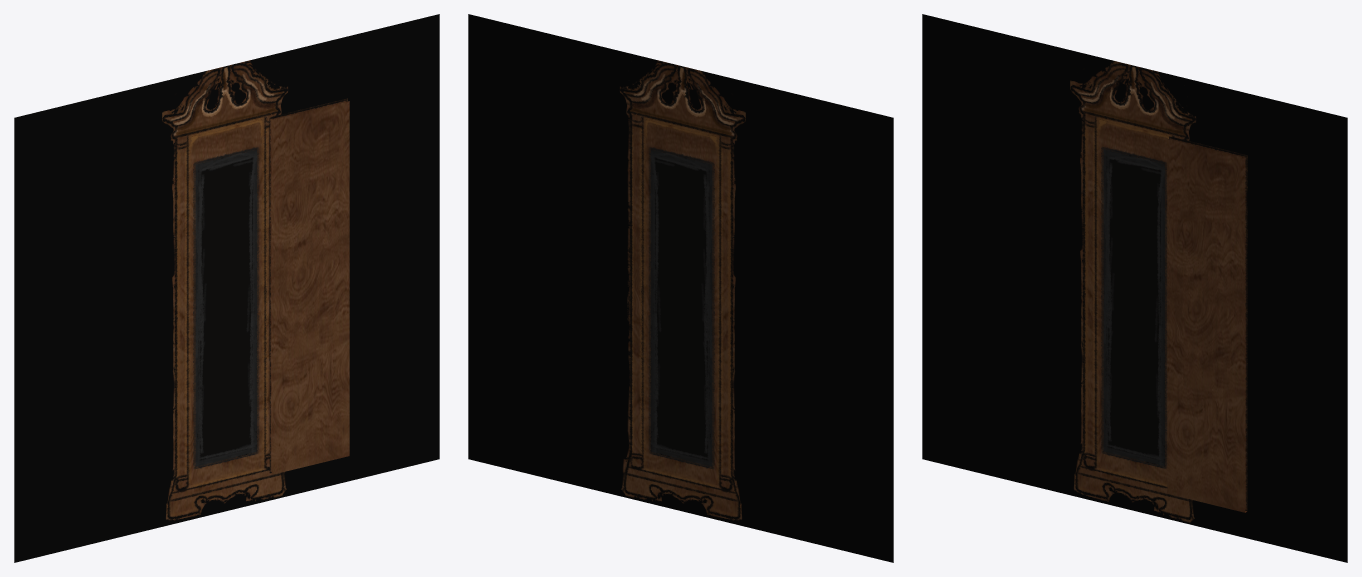
File: pendulum_clock_asset.glb
The picture shows the model from 3 angles, left to right: view 1: azimuth 30°, elevation 25°; view 2: azimuth 150°, elevation 25°; view 3: azimuth 330°, elevation 25°; orthographic projection.
Visible parts, largest first — view 1: pendulum_clock_empty, pendulum_clock_door_front; view 2: pendulum_clock_empty; view 3: pendulum_clock_empty, pendulum_clock_door_front.
Boxes of the visible parts, x1,y1,x2,y2 form: pendulum_clock_empty: [14, 14, 439, 562]; pendulum_clock_door_front: [269, 98, 349, 474]; pendulum_clock_empty: [468, 14, 893, 562]; pendulum_clock_empty: [922, 14, 1347, 562]; pendulum_clock_door_front: [1167, 136, 1247, 512].
Bounding box in the file's own units: 2 × 2 × 0.0503.
5 materials, 5 textured.
